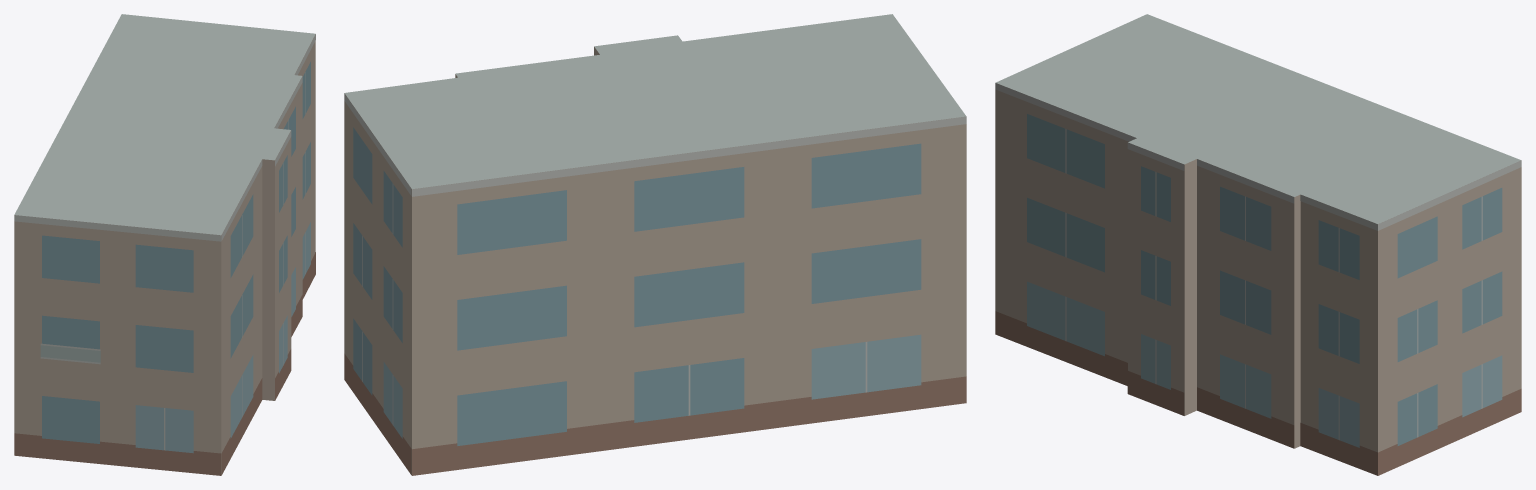
Rendered from survey-upis-32831237.glb.
3 renders of one model, left to right at view 1: azimuth 30°, elevation 25°; view 2: azimuth 150°, elevation 25°; view 3: azimuth 270°, elevation 25°, orthographic. The views are drawn at different scales.
Parts seen in each view (by area): view 1: survey-upis-32831237.tmp; view 2: survey-upis-32831237.tmp; view 3: survey-upis-32831237.tmp.
Boxes of the visible parts, left/top/right/bottom form: survey-upis-32831237.tmp: left=14, top=14, right=315, bottom=475; survey-upis-32831237.tmp: left=344, top=14, right=966, bottom=475; survey-upis-32831237.tmp: left=995, top=14, right=1521, bottom=475.
Size of the model in its own units: 16.4 by 9.15 by 17.35.
